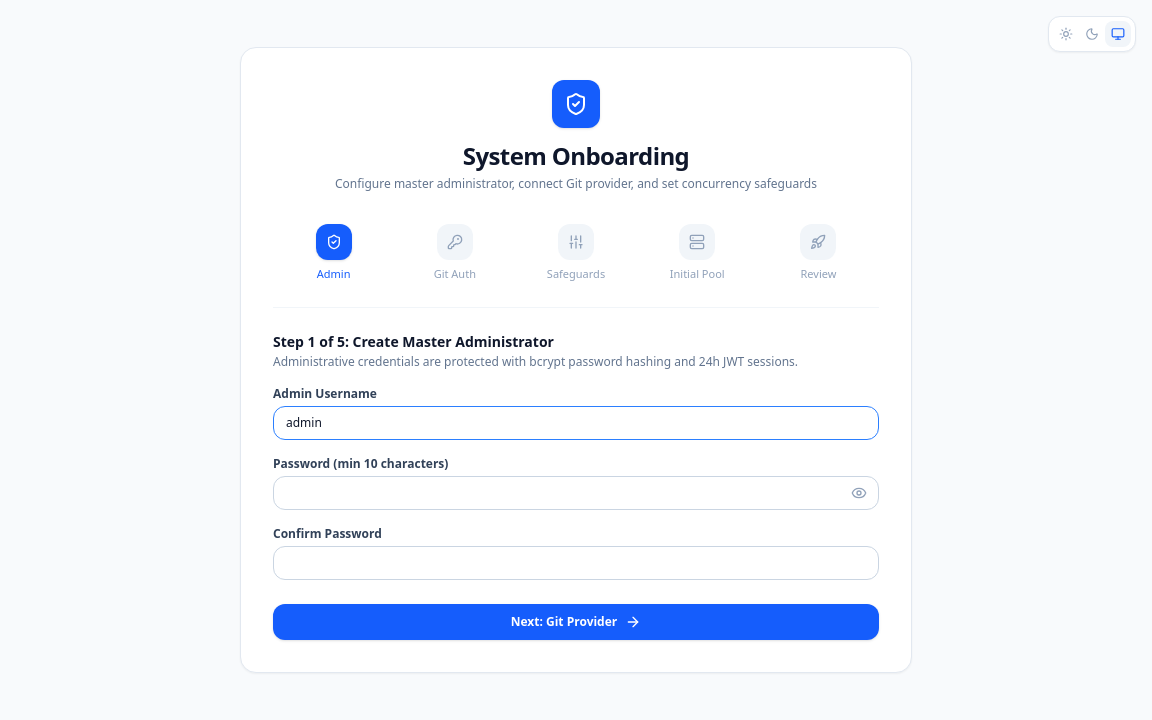
Test: OnboardingPage (Full 5 Steps) › locks allowDocker to enabled when Gitea or Forgejo provider is selected
The image size is (1152, 720).
In the password field labelled "Password (min 10 characters)": (576, 493) [273,476,879,510], type "longenoughpass123"
In the password field labelled "Confirm Password": (576, 563) [273,546,879,580], type "longenoughpass123"
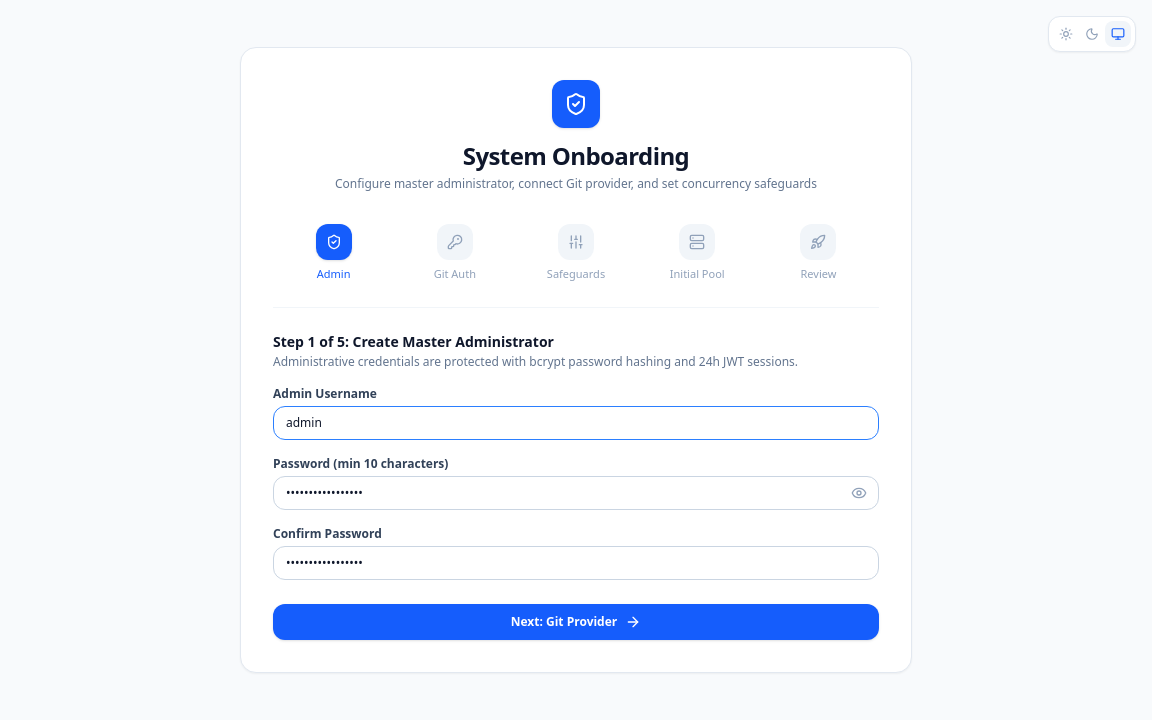
Click the button "Next: Git Provider": (576, 622) [273,604,879,640]
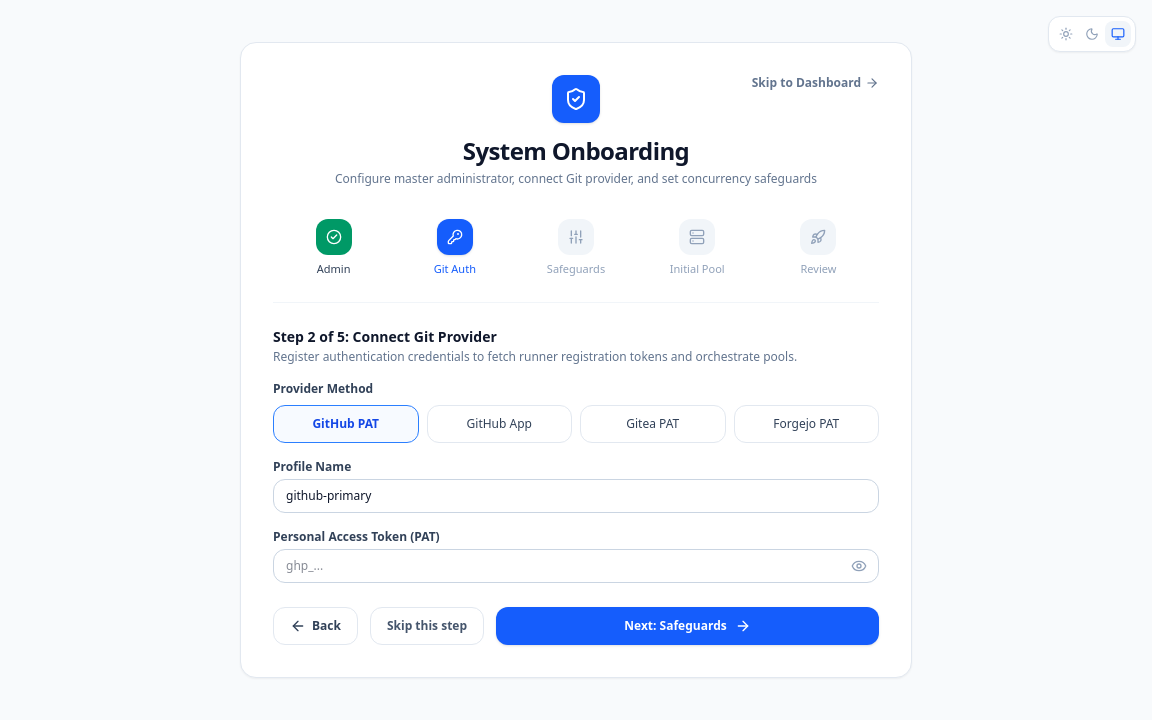
Check: the heading "Step 2 of 5: Connect Git Provider" is shown, box [273,327,497,346]
// Select Gitea PAT
Click the button "Gitea PAT": (653, 424) [580,405,726,443]
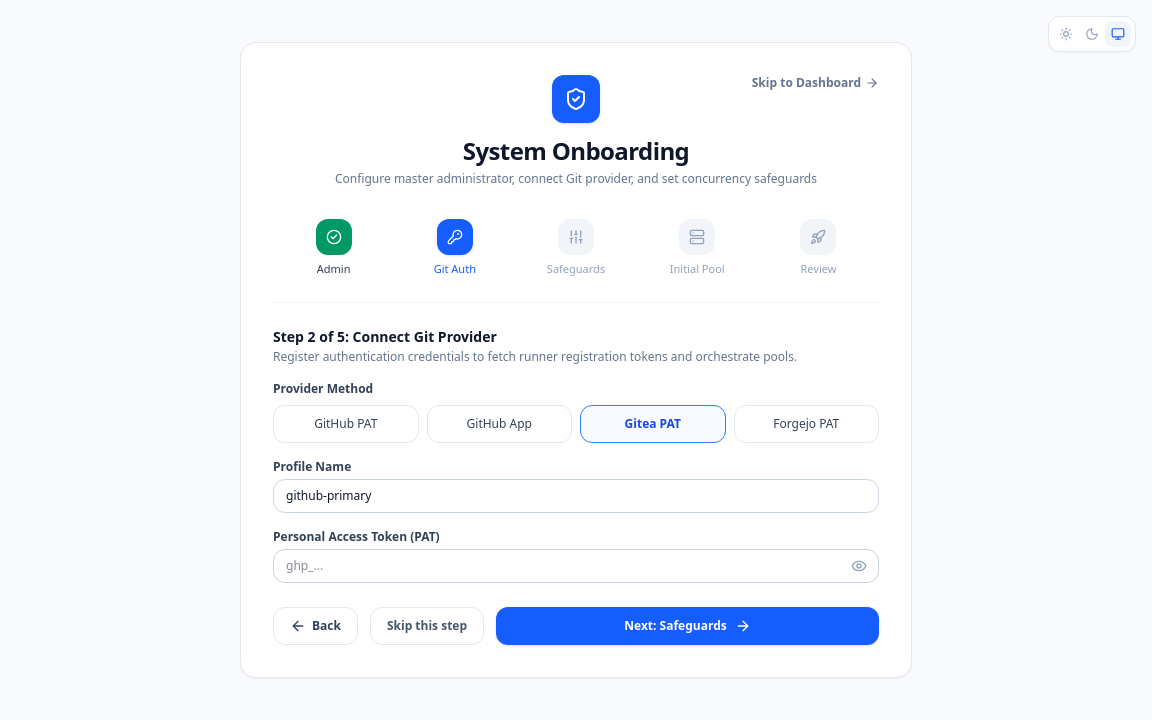
In the password field labelled "Personal Access Token (PAT)": (576, 566) [273,549,879,583], type "gitea_token_abc"
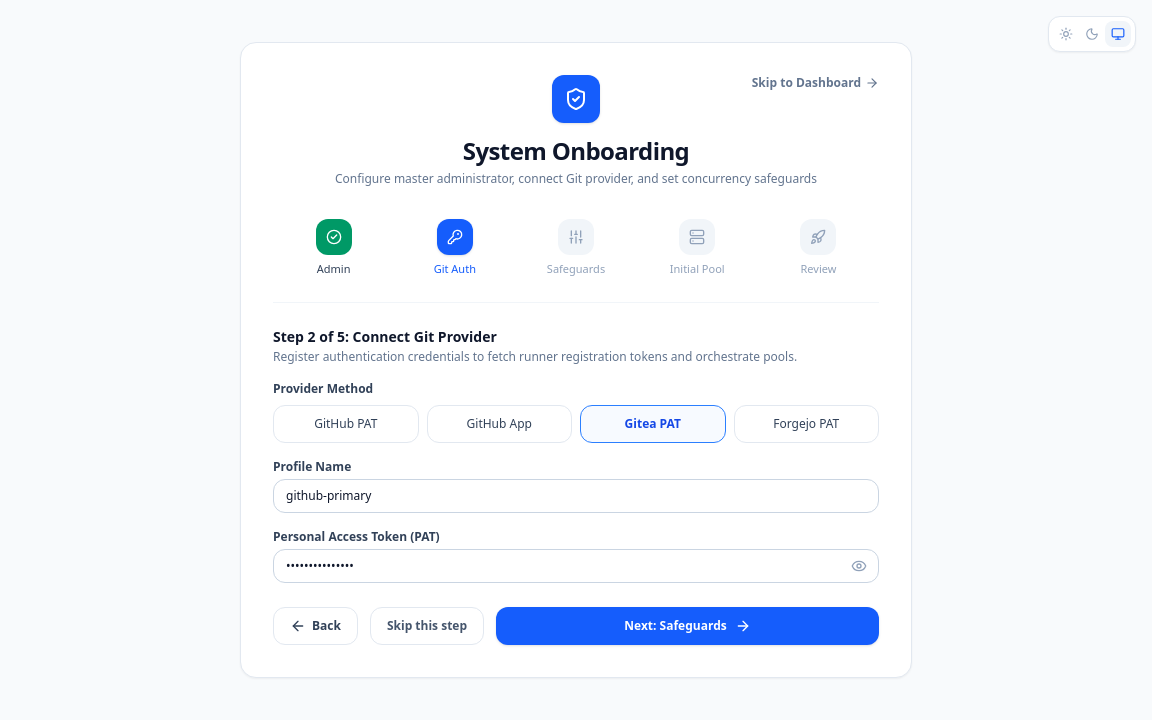
Click the button "Next: Safeguards": (688, 626) [496,607,879,645]
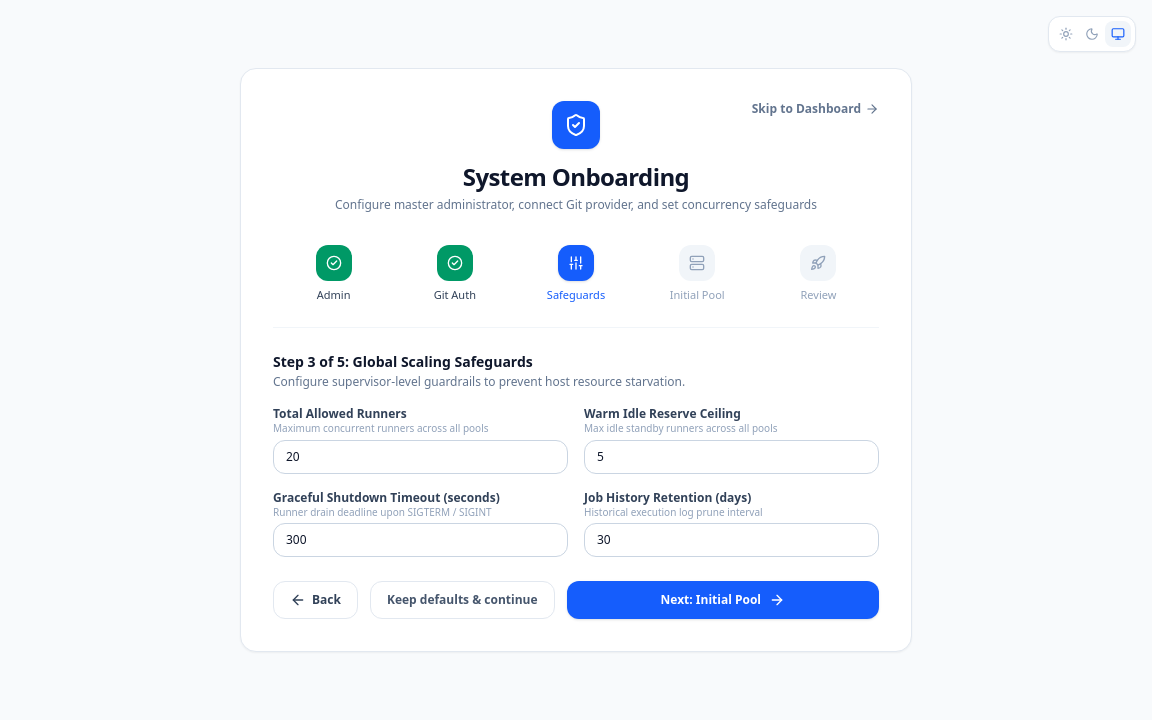
Check: the heading "Step 3 of 5: Global Scaling Safeguards" is shown, box [273,352,533,371]
Click the button "Next: Initial Pool": (723, 600) [566,581,879,619]
(page scrolled)
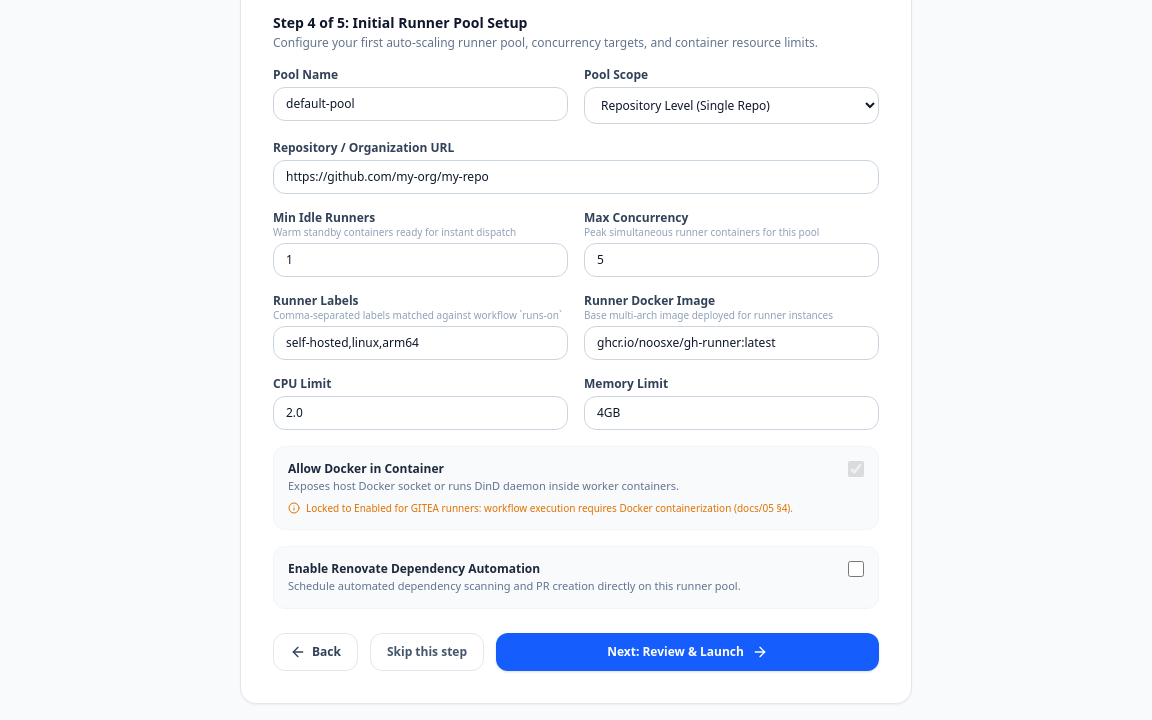
Check: the heading "Step 4 of 5: Initial Runner Pool Setup" is shown, box [273,12,528,32]
Check: the checkbox labelled "Allow Docker in Container" is checked, box [848,461,864,477]
Check: the checkbox labelled "Allow Docker in Container" is disabled, box [848,461,864,477]
